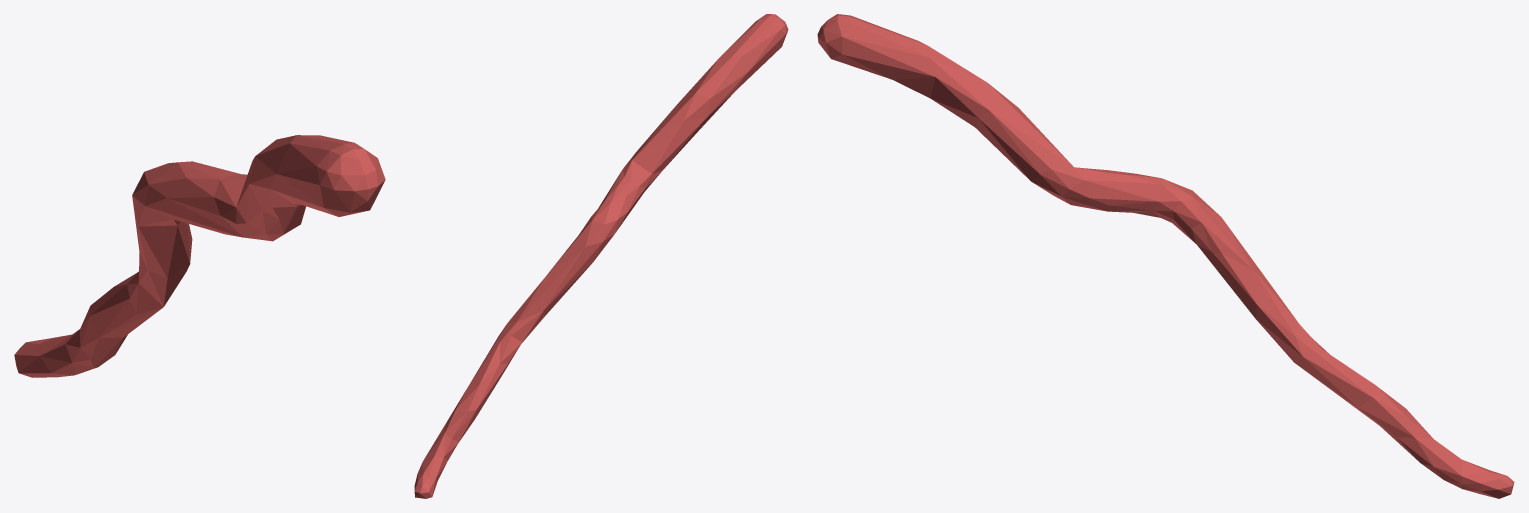
The picture shows the model from 3 angles, left to right: view 1: azimuth 30°, elevation 25°; view 2: azimuth 150°, elevation 25°; view 3: azimuth 270°, elevation 25°; orthographic projection. The views are drawn at different scales.
Parts seen in each view (by area): view 1: FJ2652; view 2: FJ2652; view 3: FJ2652.
Part boxes in pixels (x1,y1,x2,y2): FJ2652: [14, 135, 385, 377]; FJ2652: [414, 14, 788, 498]; FJ2652: [817, 14, 1514, 498].
Size of the model in its own units: 4.06 by 9.96 by 14.96.
